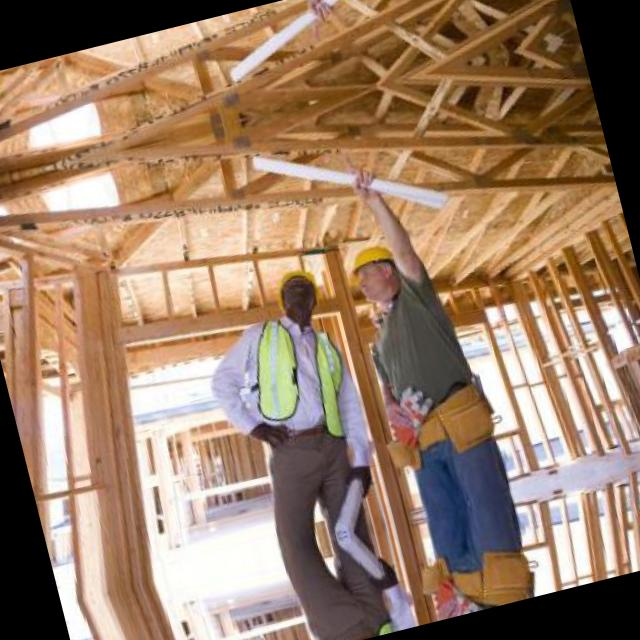helmet: (336, 232, 408, 309), (266, 258, 326, 330)
